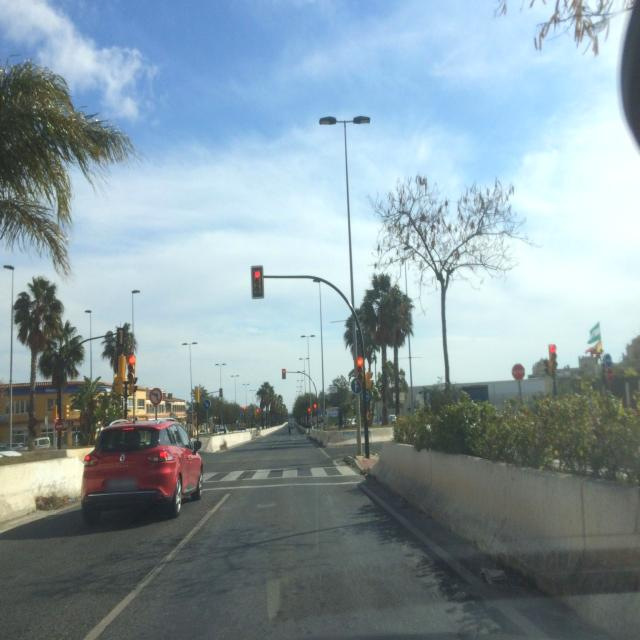car: (81, 416, 203, 524), (32, 436, 51, 448), (214, 426, 228, 434)
